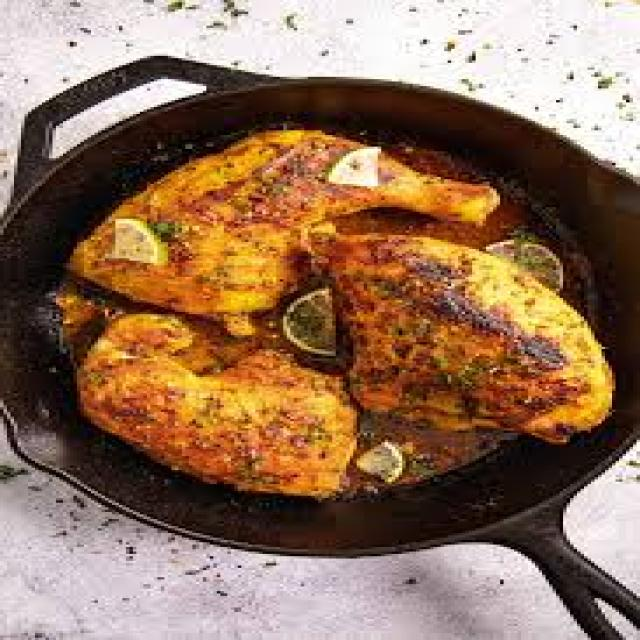Frango: (70, 119, 615, 500)
